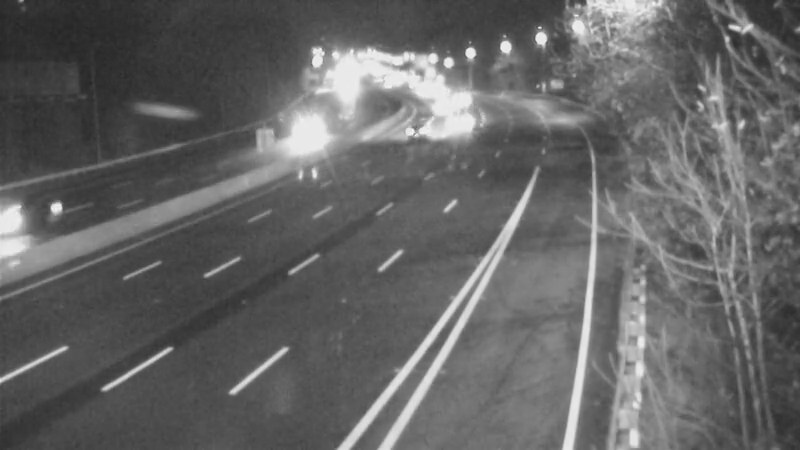vehicle: (1, 180, 68, 260), (437, 75, 487, 125), (415, 84, 465, 134), (435, 99, 485, 149), (386, 106, 436, 156), (281, 112, 331, 162)
